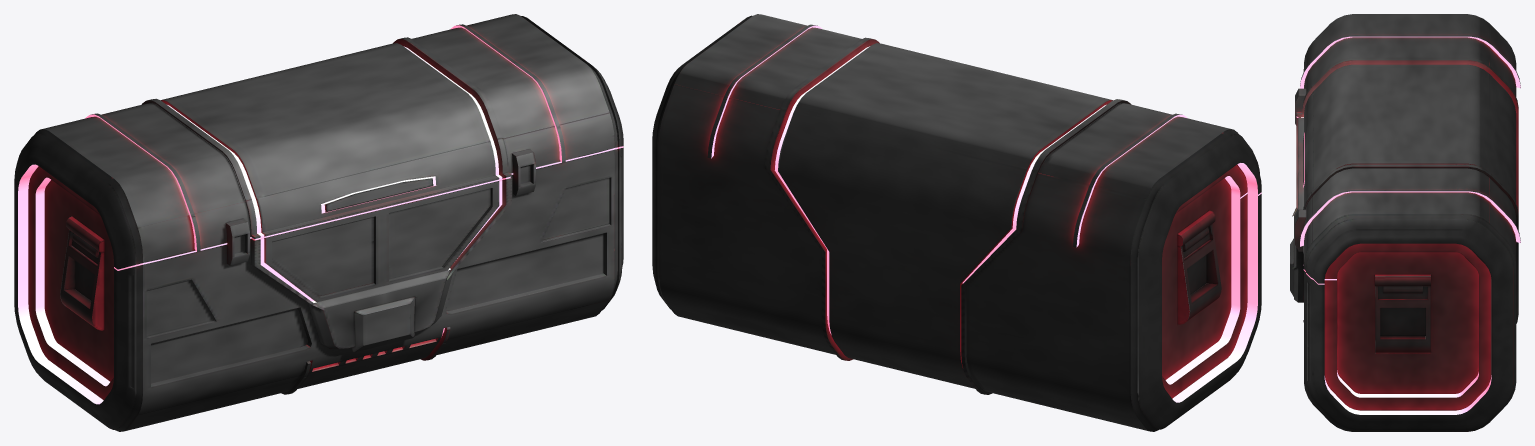
Rendered from ボックス_red.fbx.
The picture shows the model from 3 angles, left to right: view 1: azimuth 30°, elevation 25°; view 2: azimuth 150°, elevation 25°; view 3: azimuth 270°, elevation 25°; orthographic projection. The views are drawn at different scales.
Visible parts, largest first — view 1: Cube.001; view 2: Cube.001; view 3: Cube.001.
Part boxes in pixels (x1,y1,x2,y2): Cube.001: (14,14,623,431); Cube.001: (652,14,1261,431); Cube.001: (1290,14,1520,431).
Bounding box in the file's own units: 478 × 230 × 217.
Materials: 2 (1 with a texture image).
